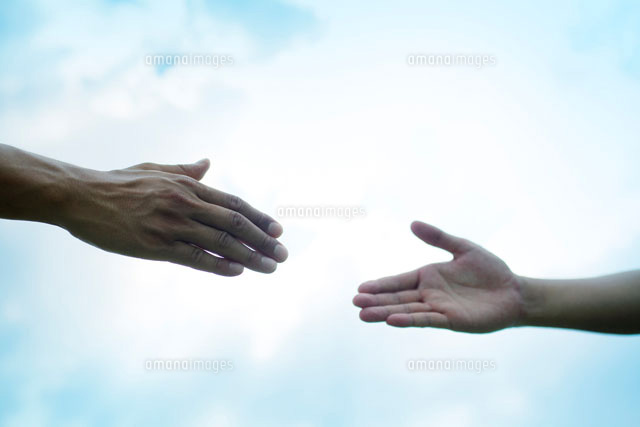hand: (73, 158, 288, 277), (352, 220, 523, 336)
